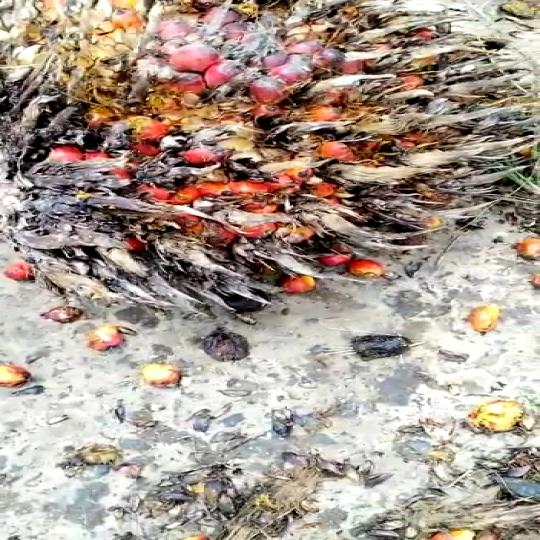terlalu masak: (0, 1, 524, 326)
